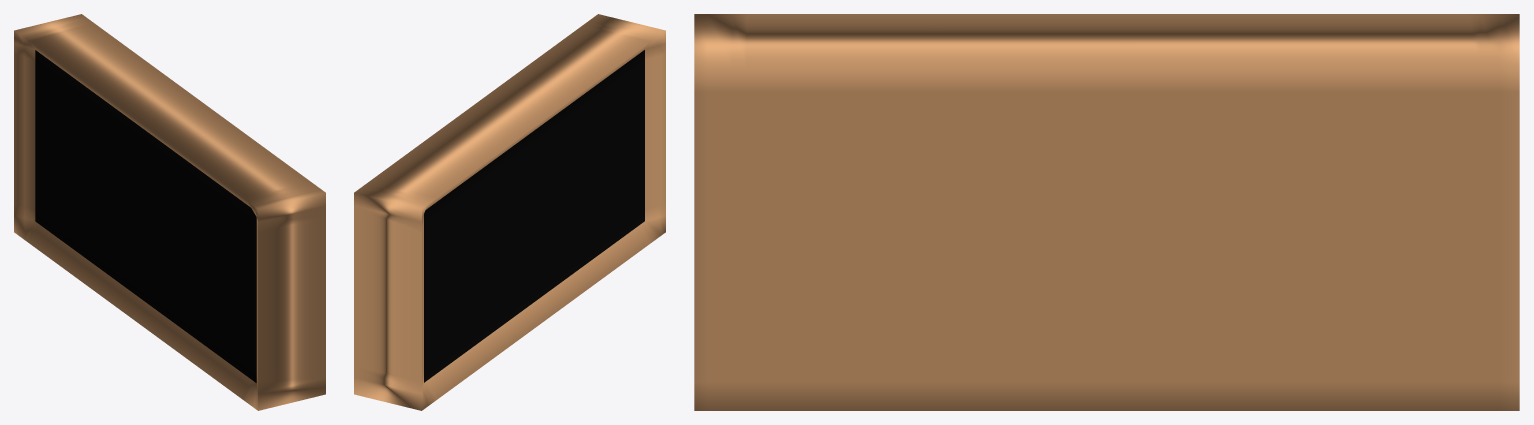
File: board.glb
The picture shows the model from 3 angles, left to right: view 1: azimuth 30°, elevation 25°; view 2: azimuth 150°, elevation 25°; view 3: azimuth 270°, elevation 25°; orthographic projection. The views are drawn at different scales.
Parts seen in each view (by area): view 1: Cube; view 2: Cube; view 3: Cube.
Boxes of the visible parts, <box> form: Cube: <box>14,14,325,410</box>; Cube: <box>354,14,665,410</box>; Cube: <box>694,14,1519,410</box>.
Size of the model in its own units: 2.09 by 5.96 by 13.07.
